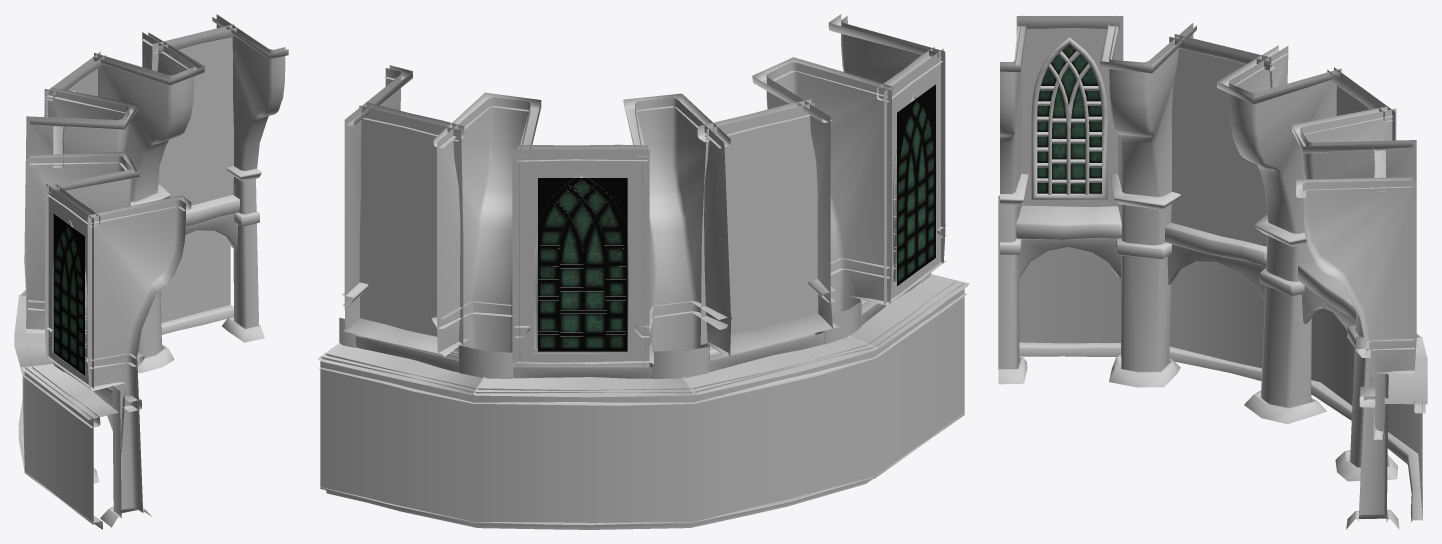
File: church_window_green_corner_concave_large.dae
3 renders of one model, left to right at view 1: azimuth 30°, elevation 25°; view 2: azimuth 150°, elevation 25°; view 3: azimuth 270°, elevation 25°, orthographic. The views are drawn at different scales.
Visible parts, largest first — view 1: polySurface150, church_window_glass9; view 2: polySurface150, church_window_glass7, church_window_glass9; view 3: polySurface150, church_window_glass9.
Part boxes in pixels (x1,y1,x2,y2): polySurface150: (14,14,288,529); church_window_glass9: (53,214,84,375); polySurface150: (317,14,969,529); church_window_glass7: (538,178,627,351); church_window_glass9: (897,84,935,285); polySurface150: (998,14,1427,529); church_window_glass9: (1037,44,1101,193).
Bounding box in the file's own units: 13.66 × 12 × 13.71.
